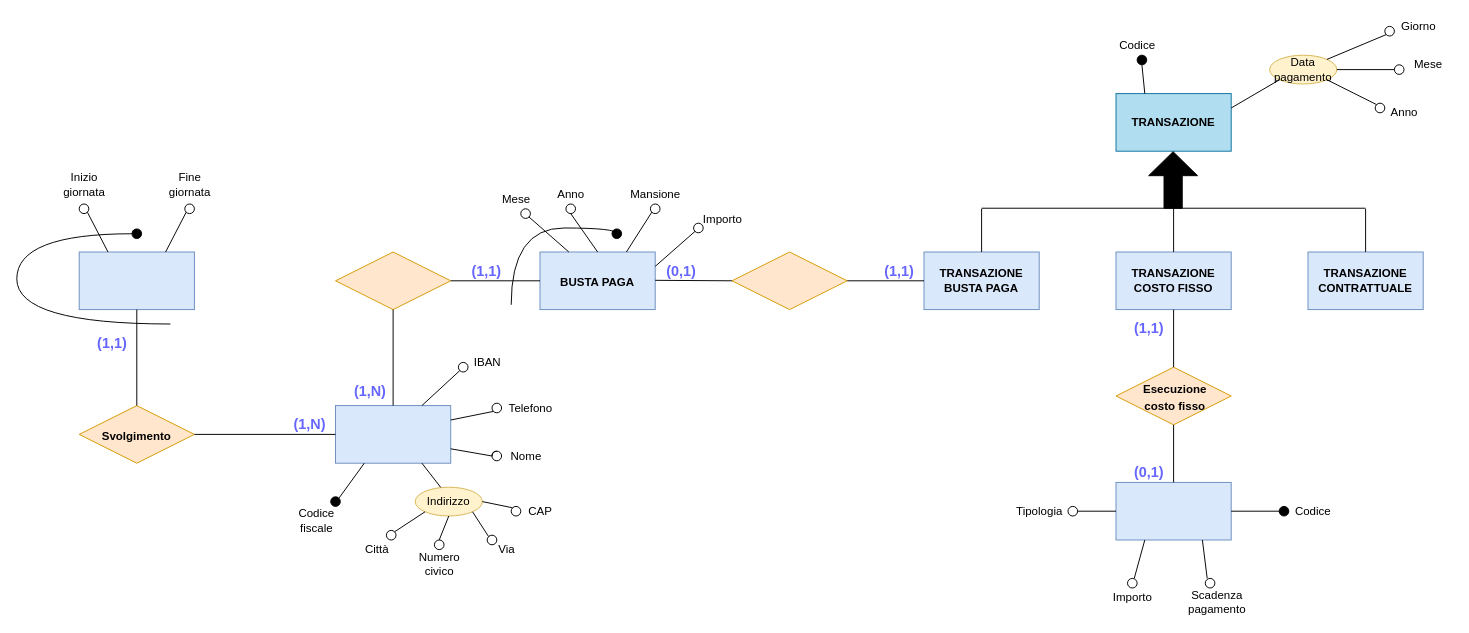
Image size: 1469x633. Some labels were removed from this diagram. Each missing label, with the box of its shape:
COSTO FISSO: (1115, 481, 1231, 540)
DIPENDENTE: (335, 405, 451, 463)
Esecuzione busta paga: (731, 251, 847, 310)
ORARIO: (78, 251, 194, 310)
Riscossione: (335, 251, 451, 310)
